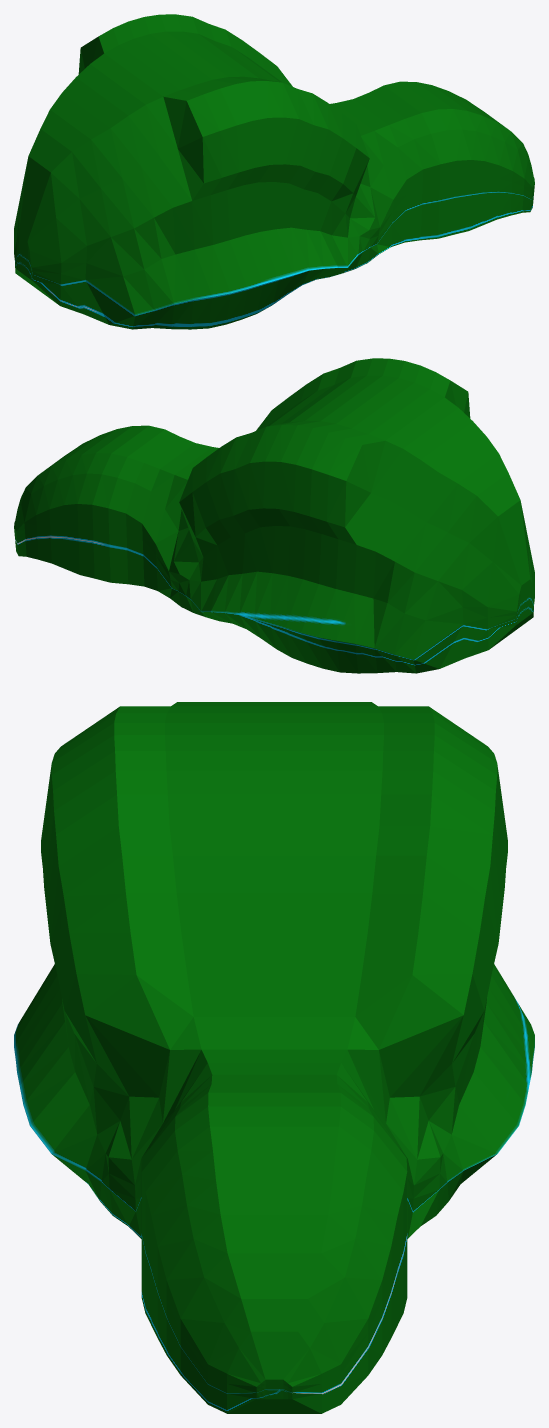
File: tamesi.obj
3 renders of one model, top to bottom at view 1: azimuth 30°, elevation 25°; view 2: azimuth 150°, elevation 25°; view 3: azimuth 270°, elevation 25°, orthographic. The views are drawn at different scales.
Visible parts, largest first — view 1: 顔上_Cube; view 2: 顔上_Cube; view 3: 顔上_Cube.
Part boxes in pixels (box(x1,y1,x2,y2)): 顔上_Cube: box(14, 14, 534, 329); 顔上_Cube: box(14, 358, 534, 673); 顔上_Cube: box(14, 702, 534, 1413).
Size of the model in its own units: 2.45 by 1.05 by 1.25.
1 material, 1 textured.
